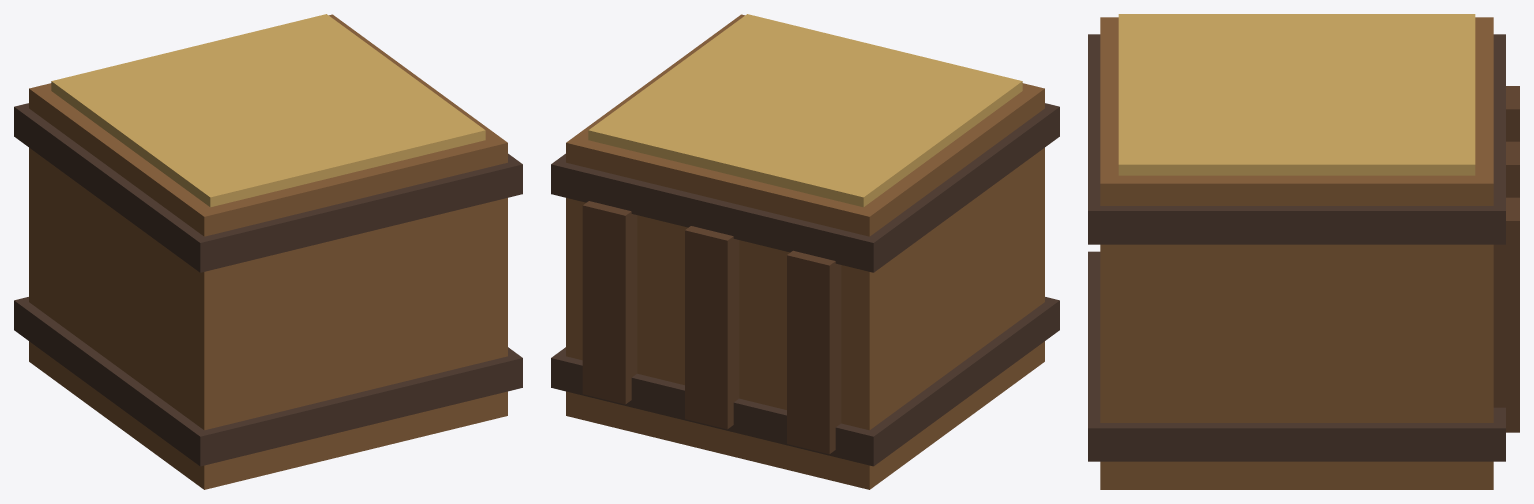
Rendered from supply_crate.obj.
The picture shows the model from 3 angles, left to right: view 1: azimuth 30°, elevation 25°; view 2: azimuth 150°, elevation 25°; view 3: azimuth 270°, elevation 25°; orthographic projection. The views are drawn at different scales.
Parts seen in each view (by area): view 1: SupplyCrate; view 2: SupplyCrate; view 3: SupplyCrate.
Part boxes in pixels (bbox=[...]): SupplyCrate: bbox=[14, 14, 522, 489]; SupplyCrate: bbox=[551, 14, 1059, 489]; SupplyCrate: bbox=[1088, 14, 1519, 489].
Bounding box in the file's own units: 1.36 × 1.14 × 1.41.
